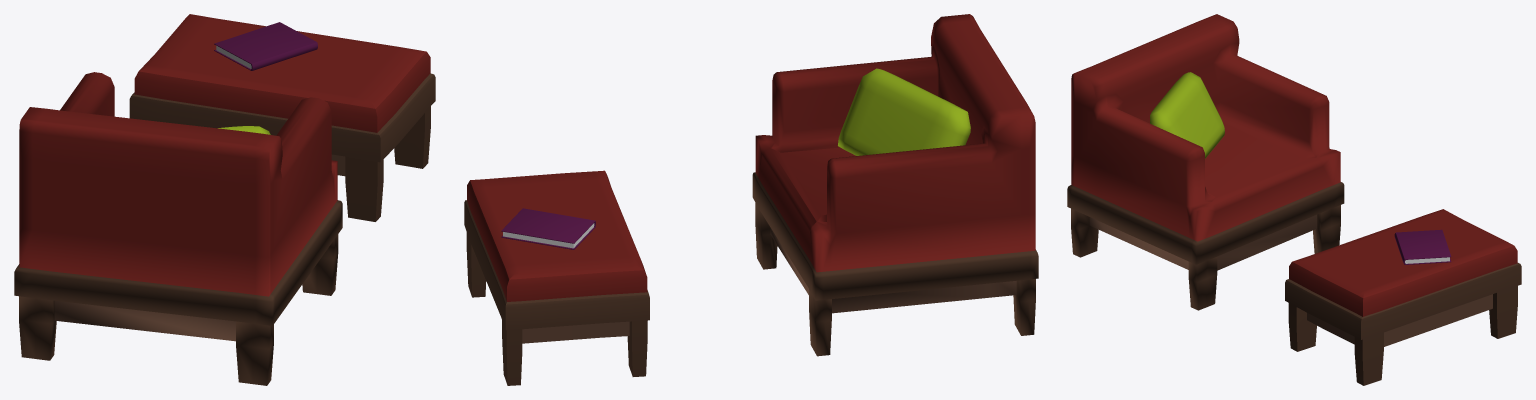
Rendered from chair_upstairs.glb.
The picture shows the model from 3 angles, left to right: view 1: azimuth 30°, elevation 25°; view 2: azimuth 150°, elevation 25°; view 3: azimuth 270°, elevation 25°; orthographic projection. The views are drawn at different scales.
Parts seen in each view (by area): view 1: matress.006, matress.007, Cube.046; view 2: matress.006, matress.007, Cube.046; view 3: matress.006, matress.007, Cube.046.
Boxes of the visible parts, x1,y1,x2,y2 form: matress.006: [14, 72, 342, 385]; matress.007: [129, 14, 435, 221]; Cube.046: [214, 22, 317, 70]; matress.006: [752, 14, 1038, 356]; matress.007: [464, 170, 649, 385]; Cube.046: [501, 208, 595, 249]; matress.006: [1067, 14, 1344, 310]; matress.007: [1285, 209, 1521, 385]; Cube.046: [1394, 229, 1451, 264].
Bounding box in the file's own units: 2.36 × 1.03 × 2.33.
